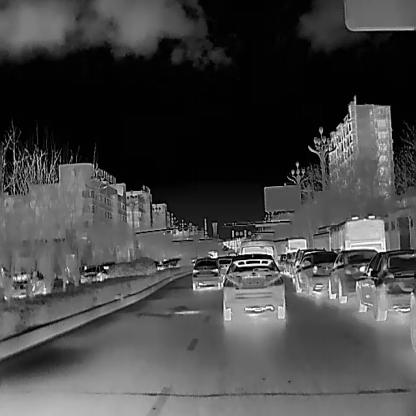bus: (311, 214, 384, 249), (274, 236, 306, 252)
car: (352, 249, 414, 321), (221, 253, 285, 320), (326, 249, 380, 303), (292, 249, 336, 295), (5, 270, 48, 298), (191, 256, 220, 289), (236, 238, 275, 254), (78, 263, 106, 282)
